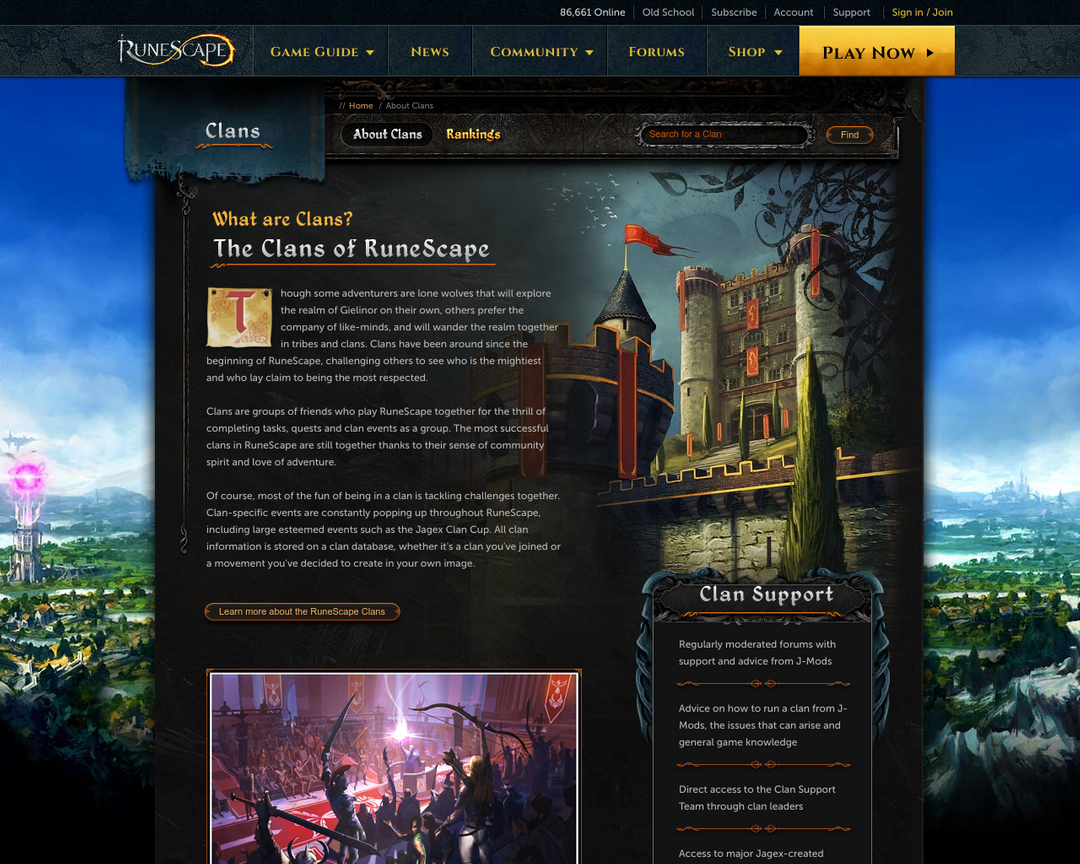Runescape: (114, 27, 238, 71)
